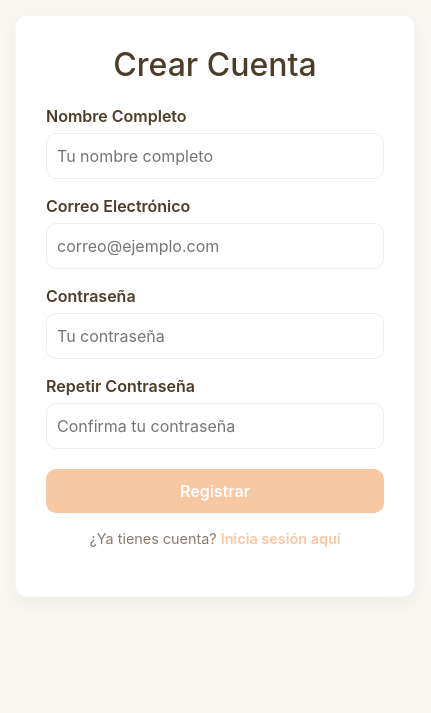
it: Componente Register › muestra error si la contraseña es muy corta
In the field labelled "Nombre Completo": (215, 156) [46, 133, 384, 179], type "Test User"
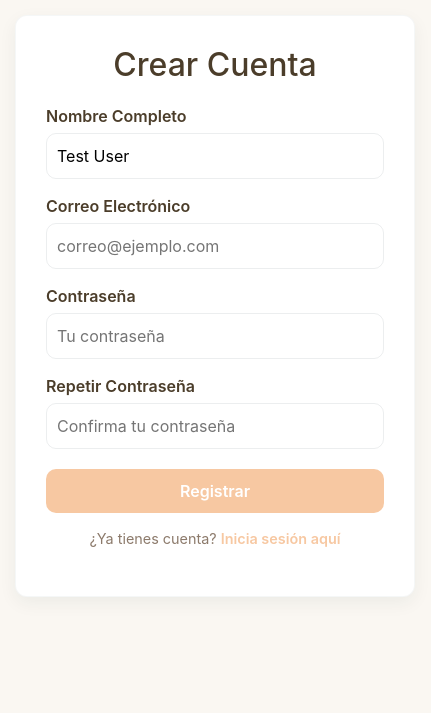
In the field labelled "Correo Electrónico": (215, 246) [46, 223, 384, 269], type "test@example.com"
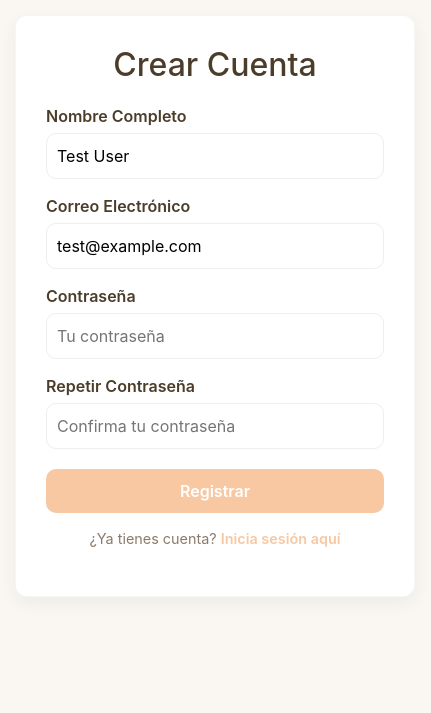
In the password field labelled "Contraseña": (215, 336) [46, 313, 384, 359], type "ab"
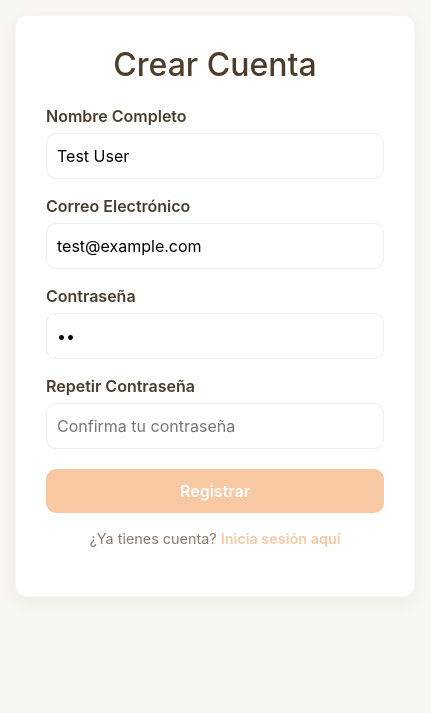
In the password field labelled "Repetir Contraseña": (215, 426) [46, 403, 384, 449], type "ab"
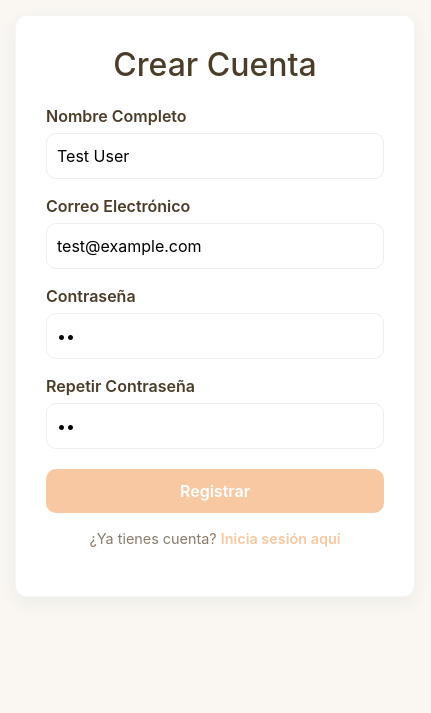
Click the button "Registrar": (215, 491) [46, 469, 384, 513]
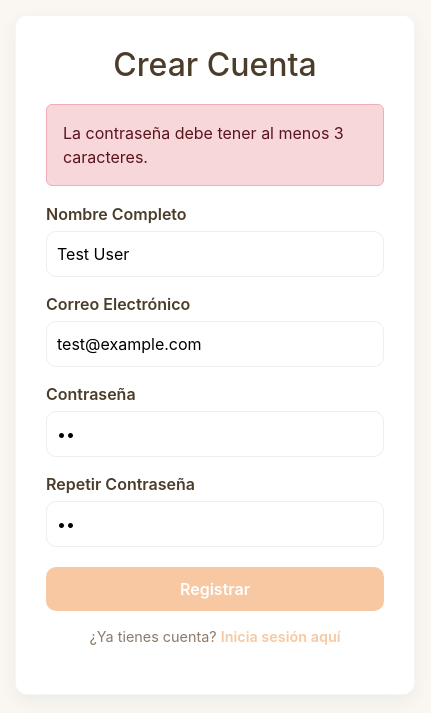
Expected: the text "La contraseña debe tener al menos 3 caracteres." is shown, [46, 104, 384, 186]
